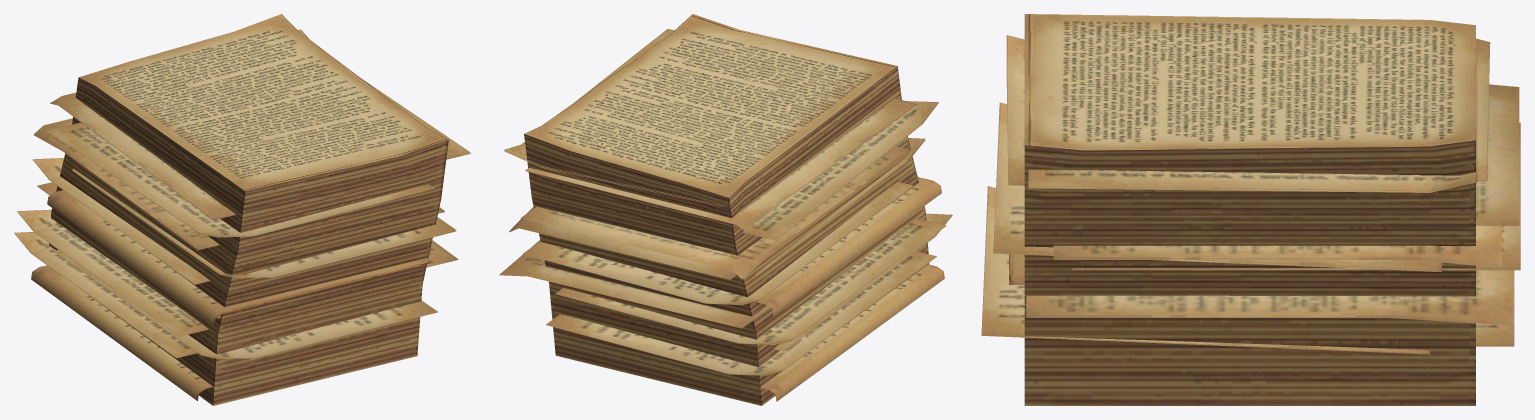
Rendered from paper_text_pile.dae.
The picture shows the model from 3 angles, left to right: view 1: azimuth 30°, elevation 25°; view 2: azimuth 150°, elevation 25°; view 3: azimuth 270°, elevation 25°; orthographic projection. The views are drawn at different scales.
Parts seen in each view (by area): view 1: paper_text_pile; view 2: paper_text_pile; view 3: paper_text_pile.
Part boxes in pixels (left/top/right/bottom): paper_text_pile: left=14, top=14, right=470, bottom=405; paper_text_pile: left=499, top=14, right=952, bottom=405; paper_text_pile: left=981, top=14, right=1520, bottom=405.
Bounding box in the file's own units: 0.2889 × 0.2062 × 0.3517.
